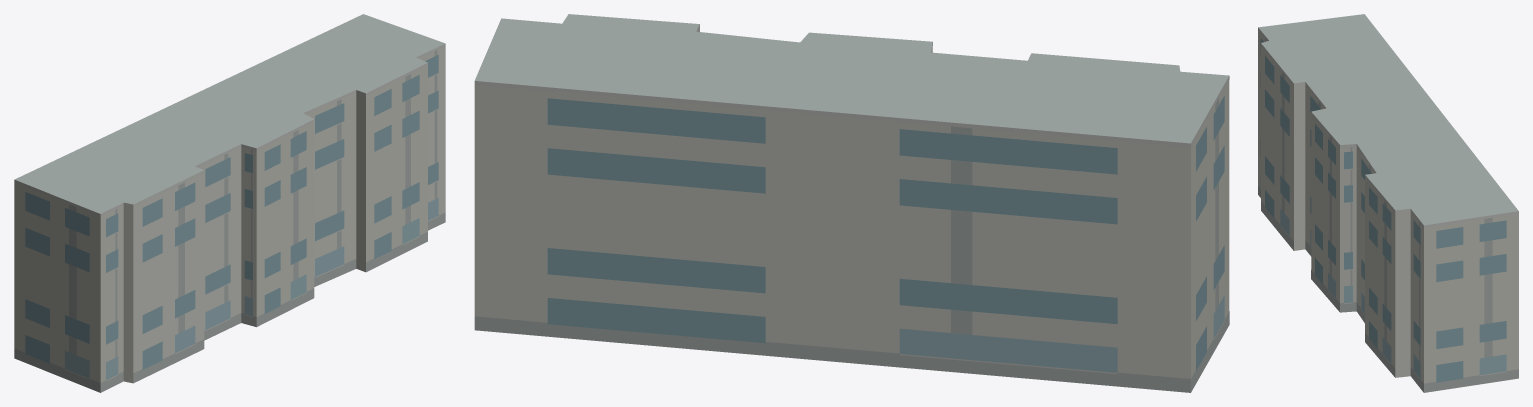
Rendered from survey-upis-32766750.glb.
3 renders of one model, left to right at view 1: azimuth 30°, elevation 25°; view 2: azimuth 150°, elevation 25°; view 3: azimuth 270°, elevation 25°, orthographic. The views are drawn at different scales.
Parts seen in each view (by area): view 1: survey-upis-32766750.tmp; view 2: survey-upis-32766750.tmp; view 3: survey-upis-32766750.tmp.
Part boxes in pixels (x1,y1,x2,y2): survey-upis-32766750.tmp: [14, 14, 445, 392]; survey-upis-32766750.tmp: [474, 14, 1229, 392]; survey-upis-32766750.tmp: [1258, 14, 1518, 392].
Bounding box in the file's own units: 41.3 × 15.25 × 21.53.
